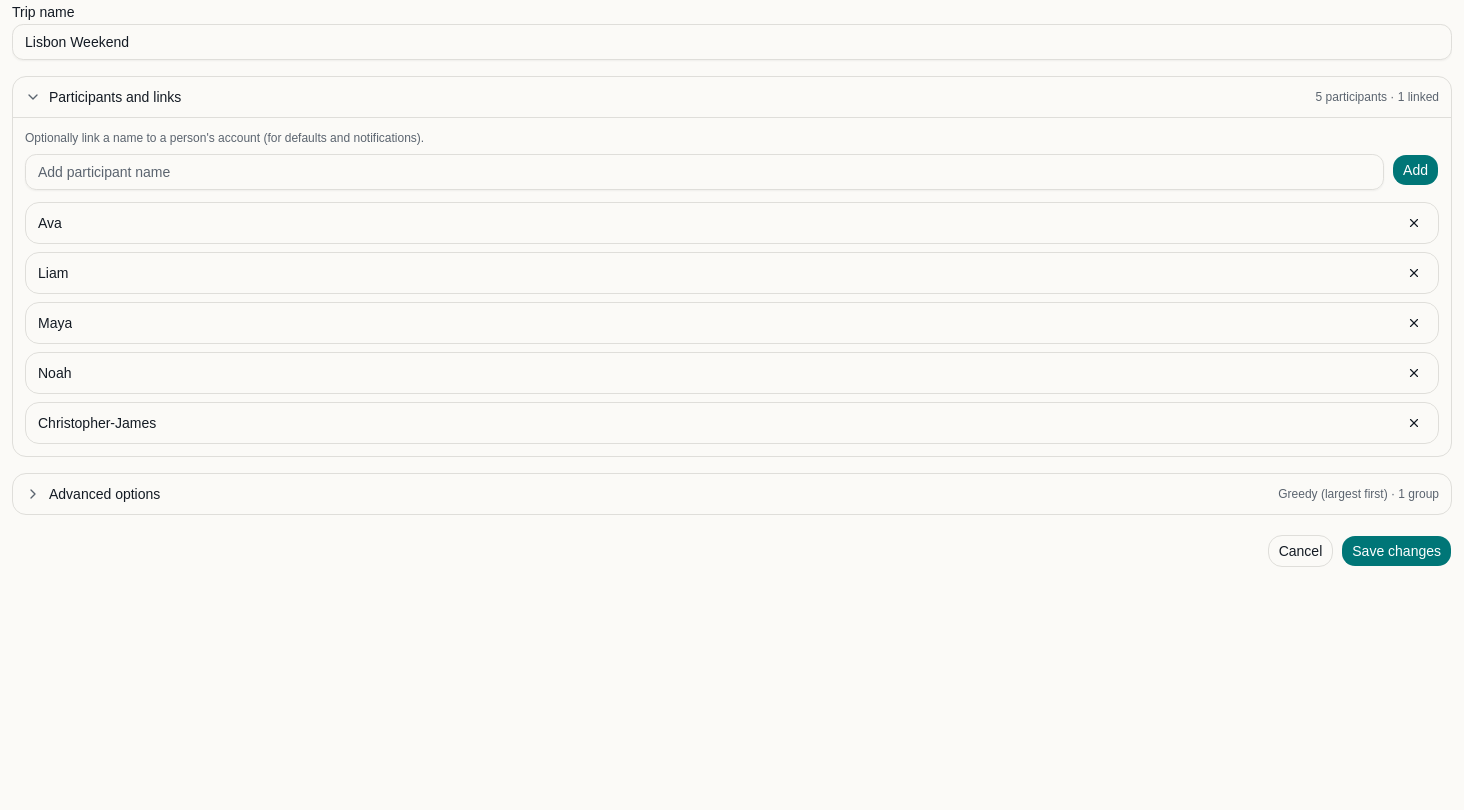
Test case: TripForm advanced options › hides the method picker and groups editor until expanded
This screenshot has width=1464, height=810.
Expected: the text "How payments are suggested" is not shown
Expected: the text "Pay as a group (families, couples)" is not shown
Click the text "Advanced options". click: (105, 494)
box: [49, 484, 160, 504]
(page scrolled)
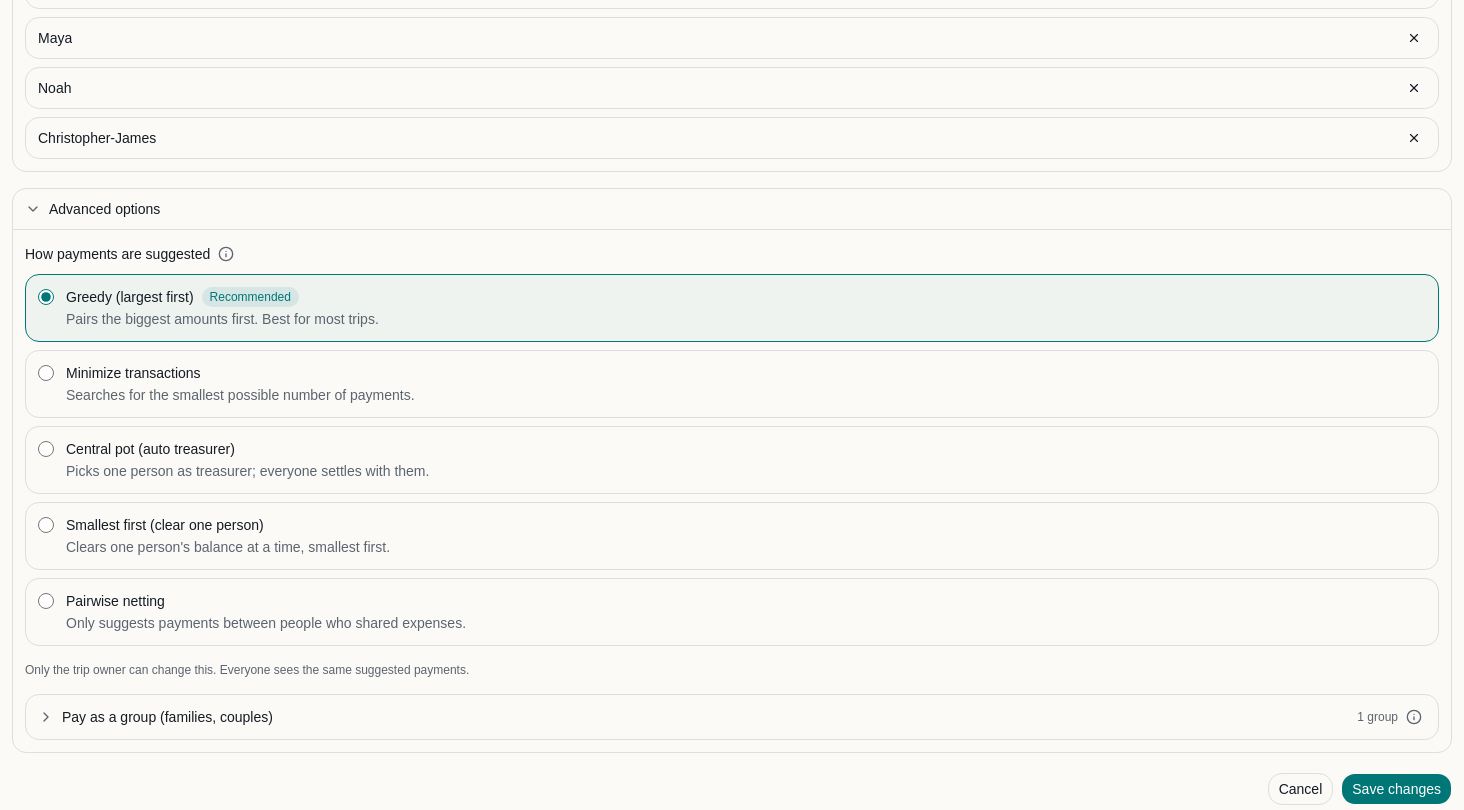
Expected: the text "How payments are suggested" is shown, [25, 242, 238, 266]
Expected: the text "Pay as a group (families, couples)" is shown, [62, 707, 273, 727]
